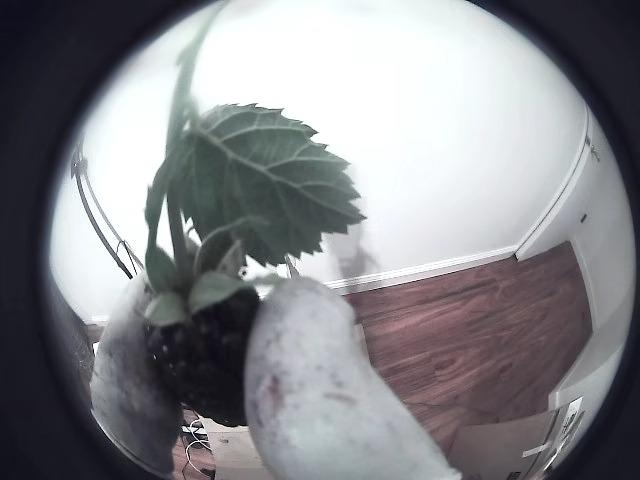berry: (145, 210, 260, 426), (166, 0, 229, 156)
gripper: (245, 277, 460, 479), (90, 273, 182, 477)
lense: (0, 0, 205, 479), (471, 0, 639, 479)
